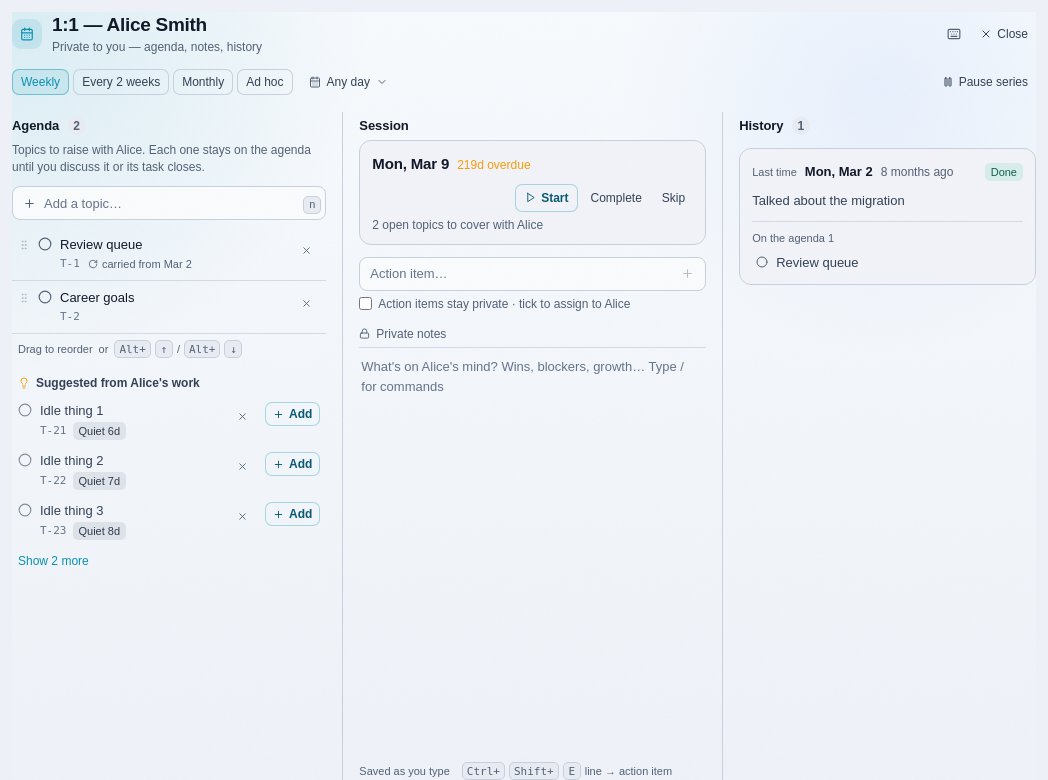
Scenario: OneOnOneWorkspace — agenda guidance and suggestions › caps suggestions and reveals the rest on demand
Check: the text "Idle thing 4" is not shown
Click the button "Show 2 more" at x=53, y=561, box top-left (12, 548), bottom-right (95, 574)
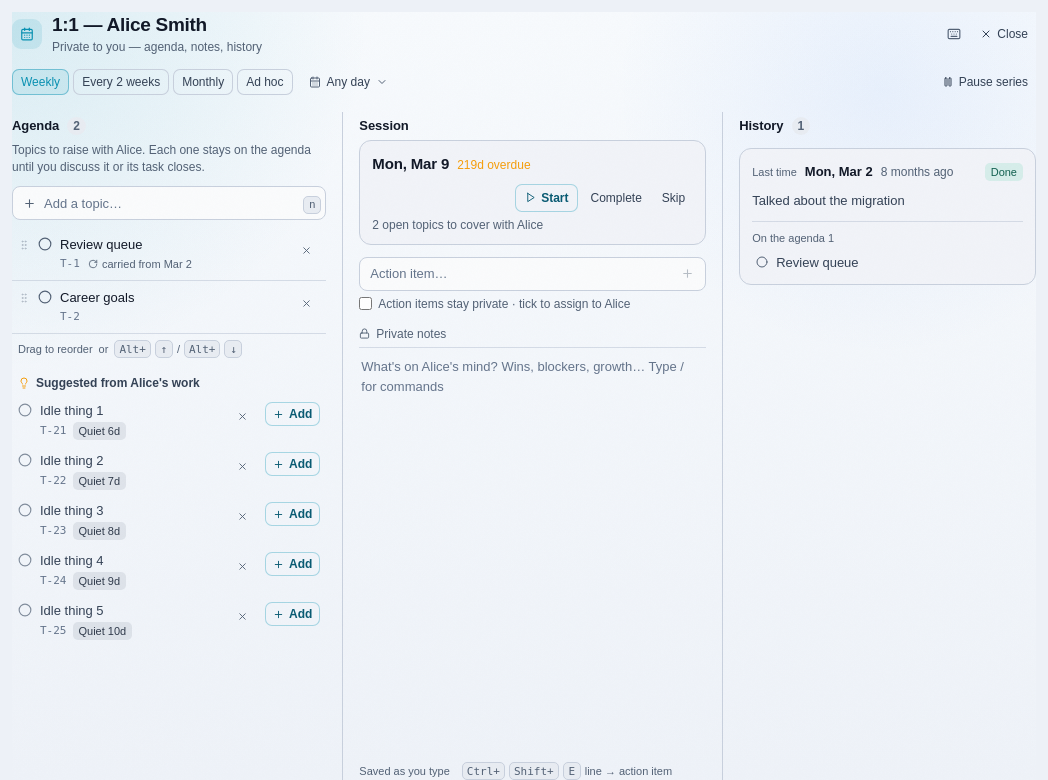
Check: the text "Idle thing 5" is shown, box top-left (40, 603), bottom-right (104, 618)
